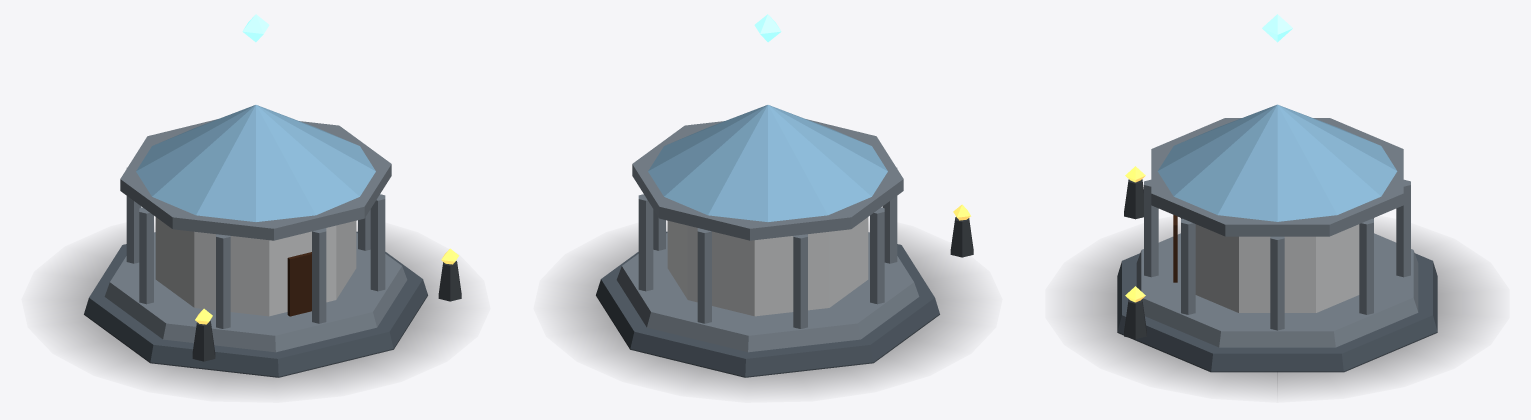
The model's file is hero_hall_t0.glb.
3 renders of one model, left to right at view 1: azimuth 30°, elevation 25°; view 2: azimuth 150°, elevation 25°; view 3: azimuth 270°, elevation 25°, orthographic.
Parts seen in each view (by area): view 1: hero_hall_t0; view 2: hero_hall_t0; view 3: hero_hall_t0.
Part boxes in pixels (x1,y1,x2,y2): hero_hall_t0: (51, 14, 461, 390); hero_hall_t0: (563, 14, 973, 390); hero_hall_t0: (1074, 14, 1480, 393).
Bounding box in the file's own units: 9.2 × 6.1 × 9.11.
